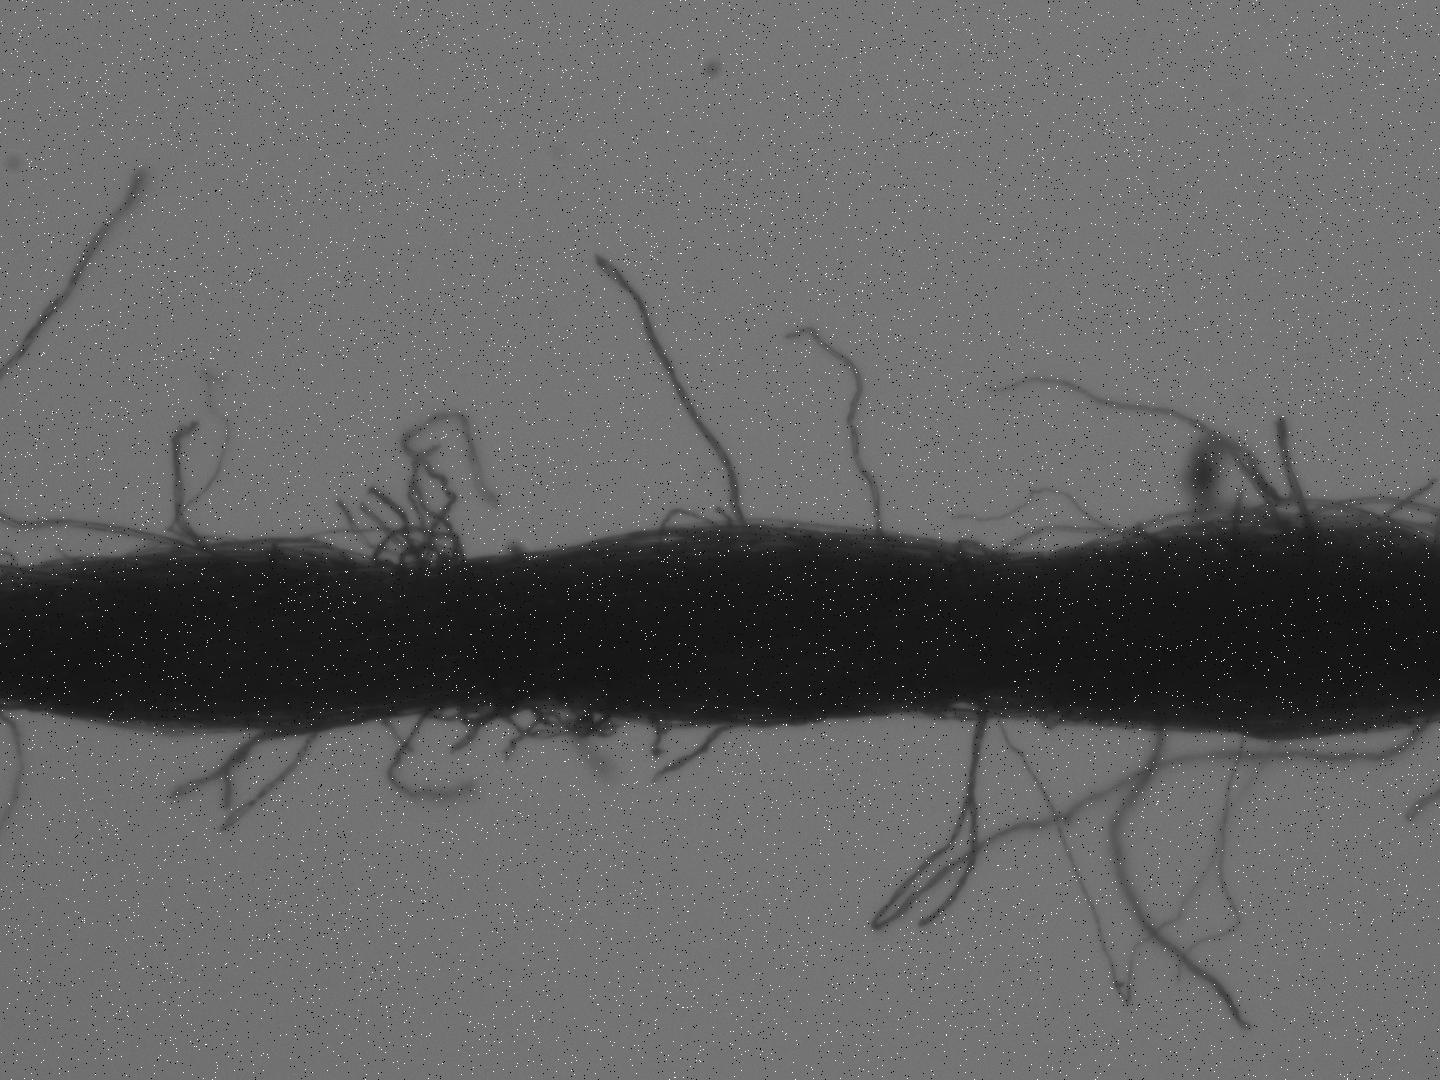loop_fiber: (871, 718, 1428, 930), (1243, 498, 1421, 540), (186, 534, 350, 564), (1000, 525, 1149, 557), (376, 524, 461, 574), (528, 706, 624, 741), (660, 504, 725, 543), (918, 704, 1020, 727), (460, 708, 522, 731)
protruding_fiber: (592, 253, 748, 532), (1113, 727, 1247, 1036), (6, 168, 145, 377), (789, 324, 887, 539), (220, 726, 325, 833), (169, 420, 211, 562), (1274, 415, 1319, 539), (652, 720, 740, 782)
